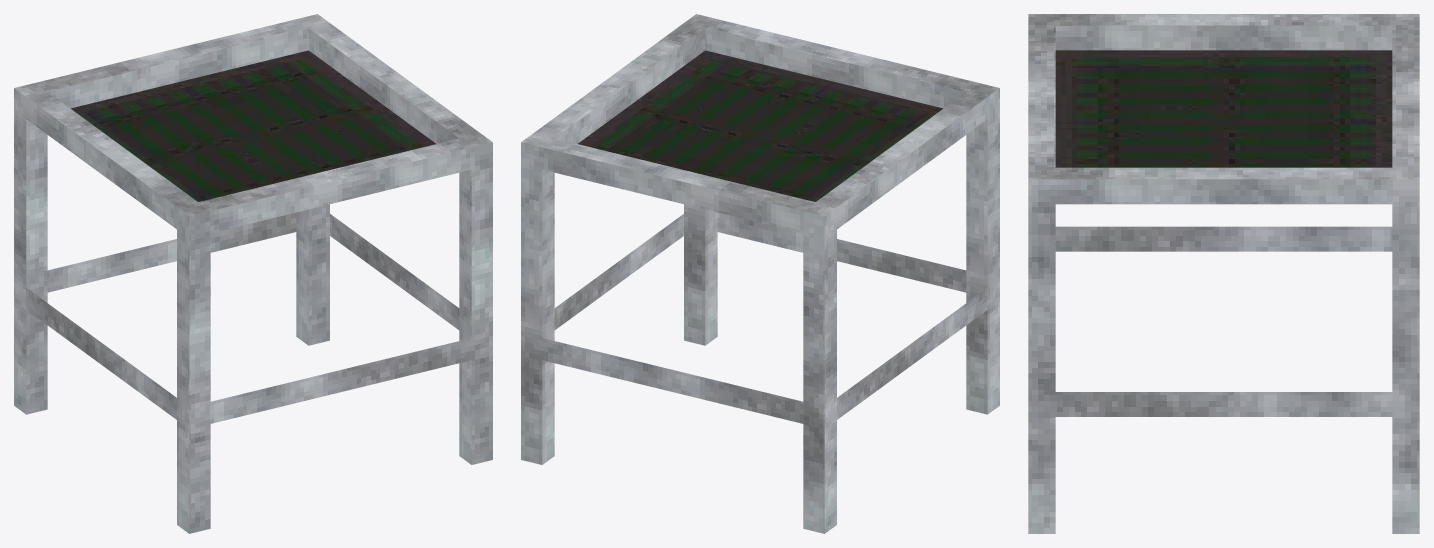
File: scaffolding-structure.glb
3 renders of one model, left to right at view 1: azimuth 30°, elevation 25°; view 2: azimuth 150°, elevation 25°; view 3: azimuth 270°, elevation 25°, orthographic. The views are drawn at different scales.
Parts seen in each view (by area): view 1: scaffolding-structure; view 2: scaffolding-structure; view 3: scaffolding-structure.
Boxes of the visible parts, left/top/right/bottom form: scaffolding-structure: left=14, top=14, right=492, bottom=533; scaffolding-structure: left=521, top=14, right=999, bottom=533; scaffolding-structure: left=1028, top=14, right=1419, bottom=533.
Size of the model in its own units: 1 by 1 by 1.
Materials: 2 (2 with a texture image).
